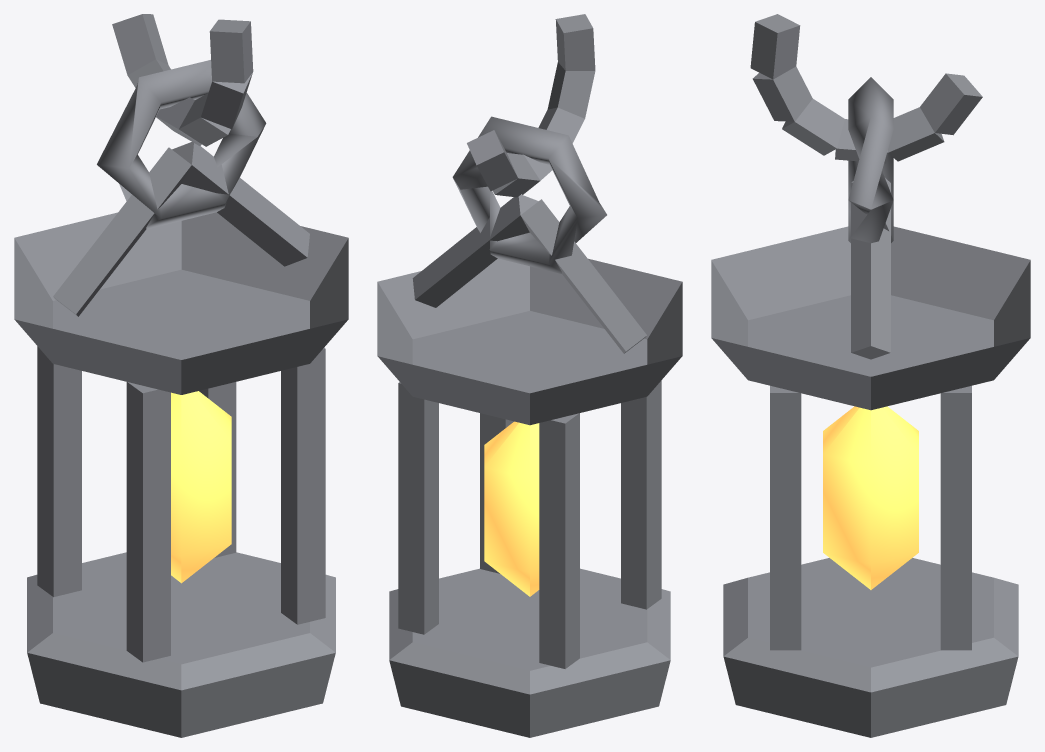
Rendered from rig_lantern.glb.
3 views of the same model, side by side, from view 1: azimuth 30°, elevation 25°; view 2: azimuth 150°, elevation 25°; view 3: azimuth 270°, elevation 25° (orthographic). The views are drawn at different scales.
Parts seen in each view (by area): view 1: rig_lantern; view 2: rig_lantern; view 3: rig_lantern.
Boxes of the visible parts, box(x1,y1,x2,y2) form: rig_lantern: box(14, 14, 348, 737); rig_lantern: box(377, 14, 682, 737); rig_lantern: box(711, 14, 1030, 737).
Bounding box in the file's own units: 0.26 × 0.5053 × 0.2252.
